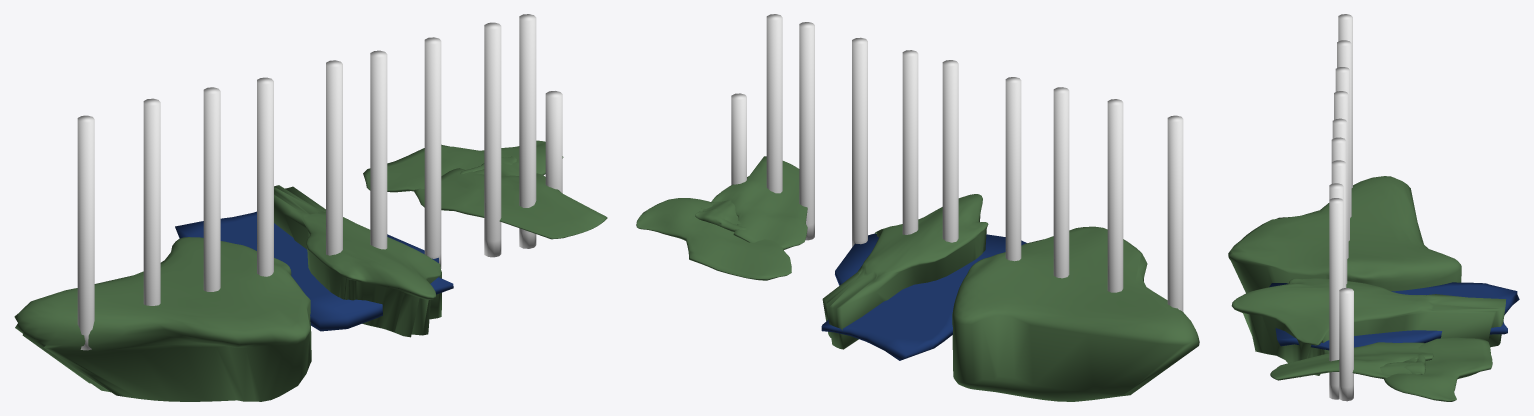
The model's file is PARK GROUND.fbx.
The picture shows the model from 3 angles, left to right: view 1: azimuth 30°, elevation 25°; view 2: azimuth 150°, elevation 25°; view 3: azimuth 270°, elevation 25°; orthographic projection. The views are drawn at different scales.
Visible parts, largest first — view 1: GROUND; view 2: GROUND; view 3: GROUND.
Boxes of the visible parts, x1,y1,x2,y2 form: GROUND: (14,14,607,401); GROUND: (636,14,1199,401); GROUND: (1228,14,1519,401).
Bounding box in the file's own units: 336629 × 175879 × 174467.
